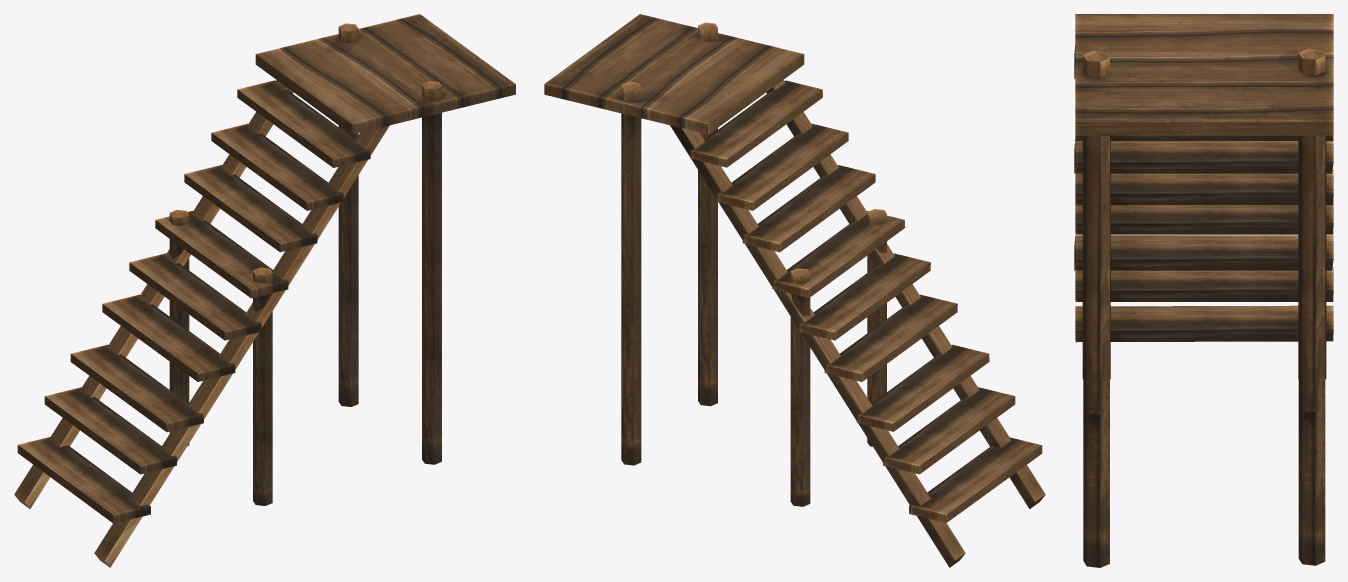
Rendered from p2_stairs.fbx.
3 views of the same model, side by side, from view 1: azimuth 30°, elevation 25°; view 2: azimuth 150°, elevation 25°; view 3: azimuth 270°, elevation 25° (orthographic). The views are drawn at different scales.
Visible parts, largest first — view 1: Group000Mat; view 2: Group000Mat; view 3: Group000Mat.
Boxes of the visible parts, x1,y1,x2,y2 form: Group000Mat: (14, 14, 515, 567); Group000Mat: (544, 14, 1045, 567); Group000Mat: (1074, 14, 1333, 567).
Size of the model in its own units: 647 by 605 by 264.
